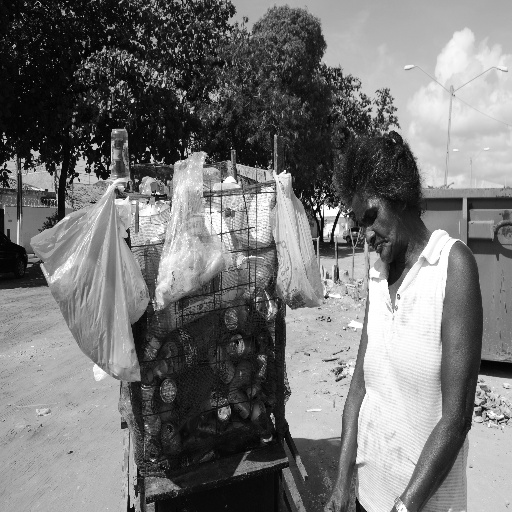hand: (323, 486, 351, 511)
